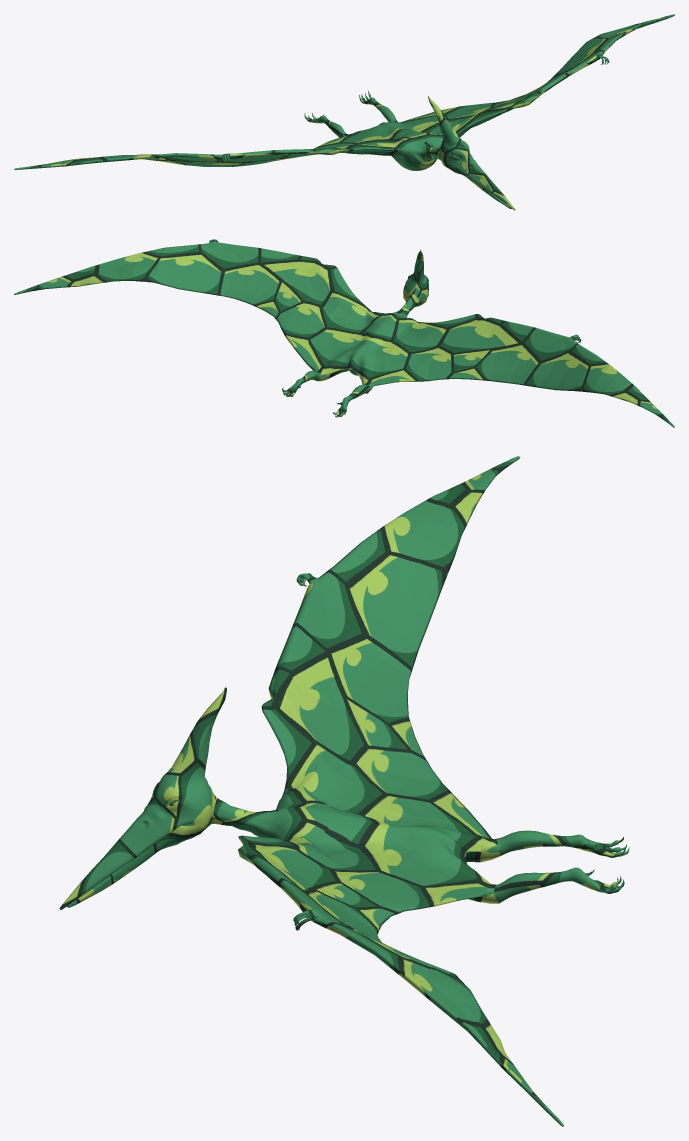
Rendered from pterodactyl.obj.
The picture shows the model from 3 angles, top to bottom: view 1: azimuth 30°, elevation 25°; view 2: azimuth 150°, elevation 25°; view 3: azimuth 270°, elevation 25°; orthographic projection. The views are drawn at different scales.
Parts seen in each view (by area): view 1: pterodactyl.2; view 2: pterodactyl.2; view 3: pterodactyl.2.
Boxes of the visible parts, left/top/right/bottom form: pterodactyl.2: left=14, top=14, right=674, bottom=210; pterodactyl.2: left=14, top=239, right=674, bottom=427; pterodactyl.2: left=59, top=456, right=629, bottom=1126.
Bounding box in the file's own units: 9.63 × 1.31 × 3.65.
